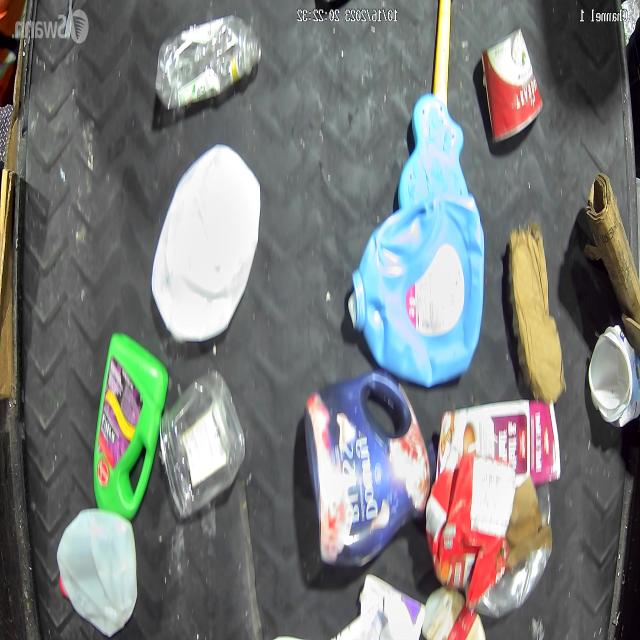can: (481, 28, 544, 145)
milk_jug: (150, 143, 261, 342), (56, 508, 140, 638)
non_white_jug: (348, 193, 486, 386), (303, 370, 437, 566), (92, 331, 167, 522)
plastic_bottle: (155, 14, 262, 109)
